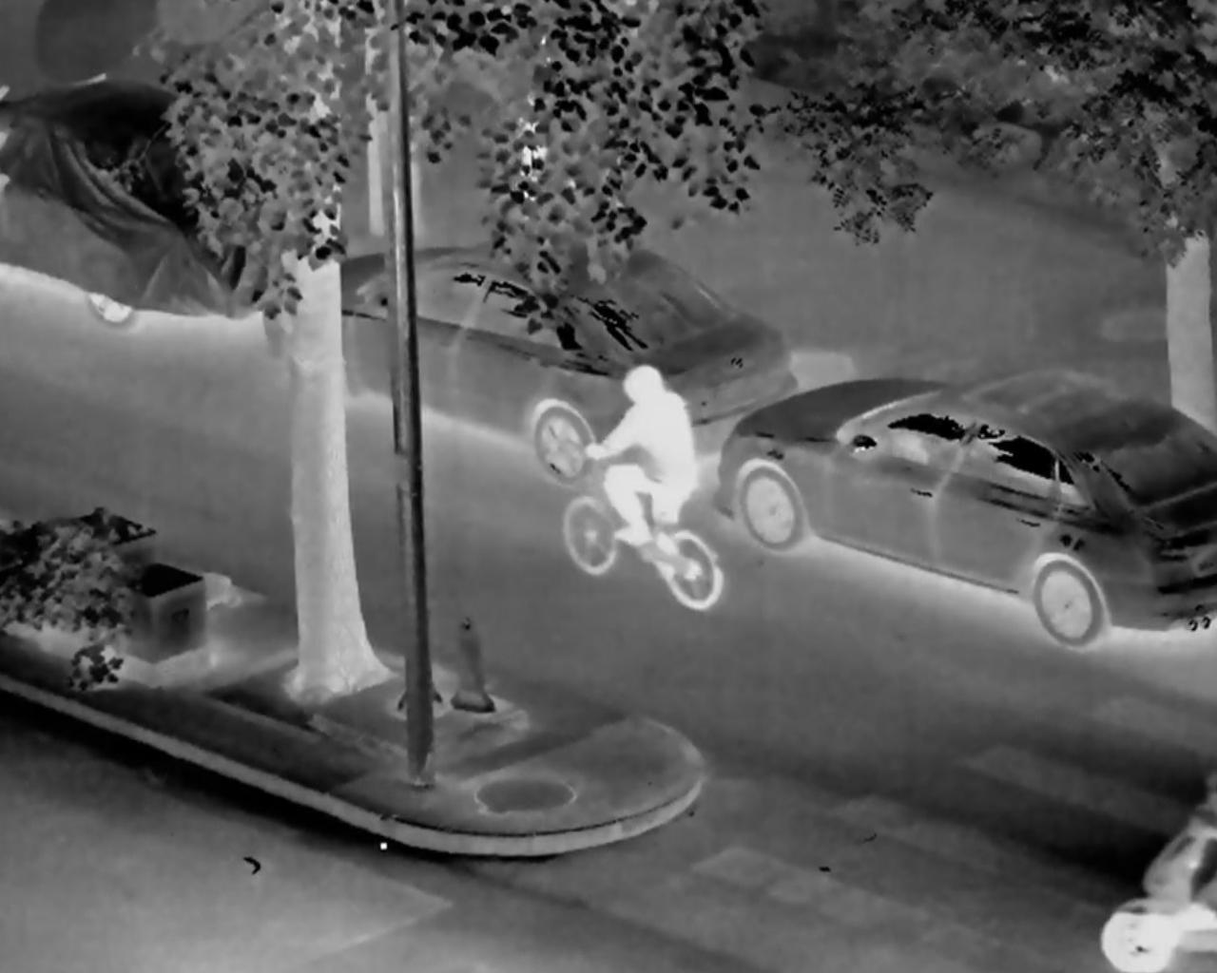person: (590, 355, 711, 565)
